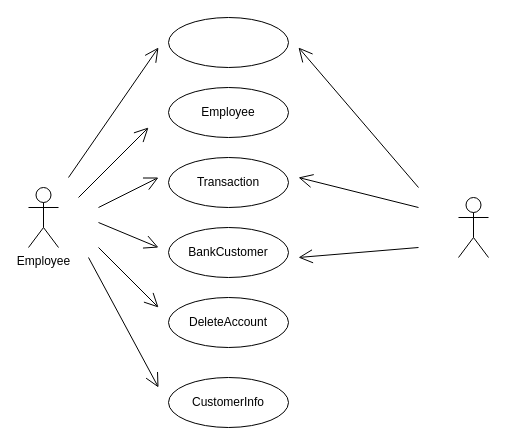
The diagram is 517 pixels wide and 445 high, and some of its shapes have lost their labels. Each missing label, with the box of its shape:
Customer: (458, 196, 488, 258)
LogIn: (168, 16, 288, 68)
